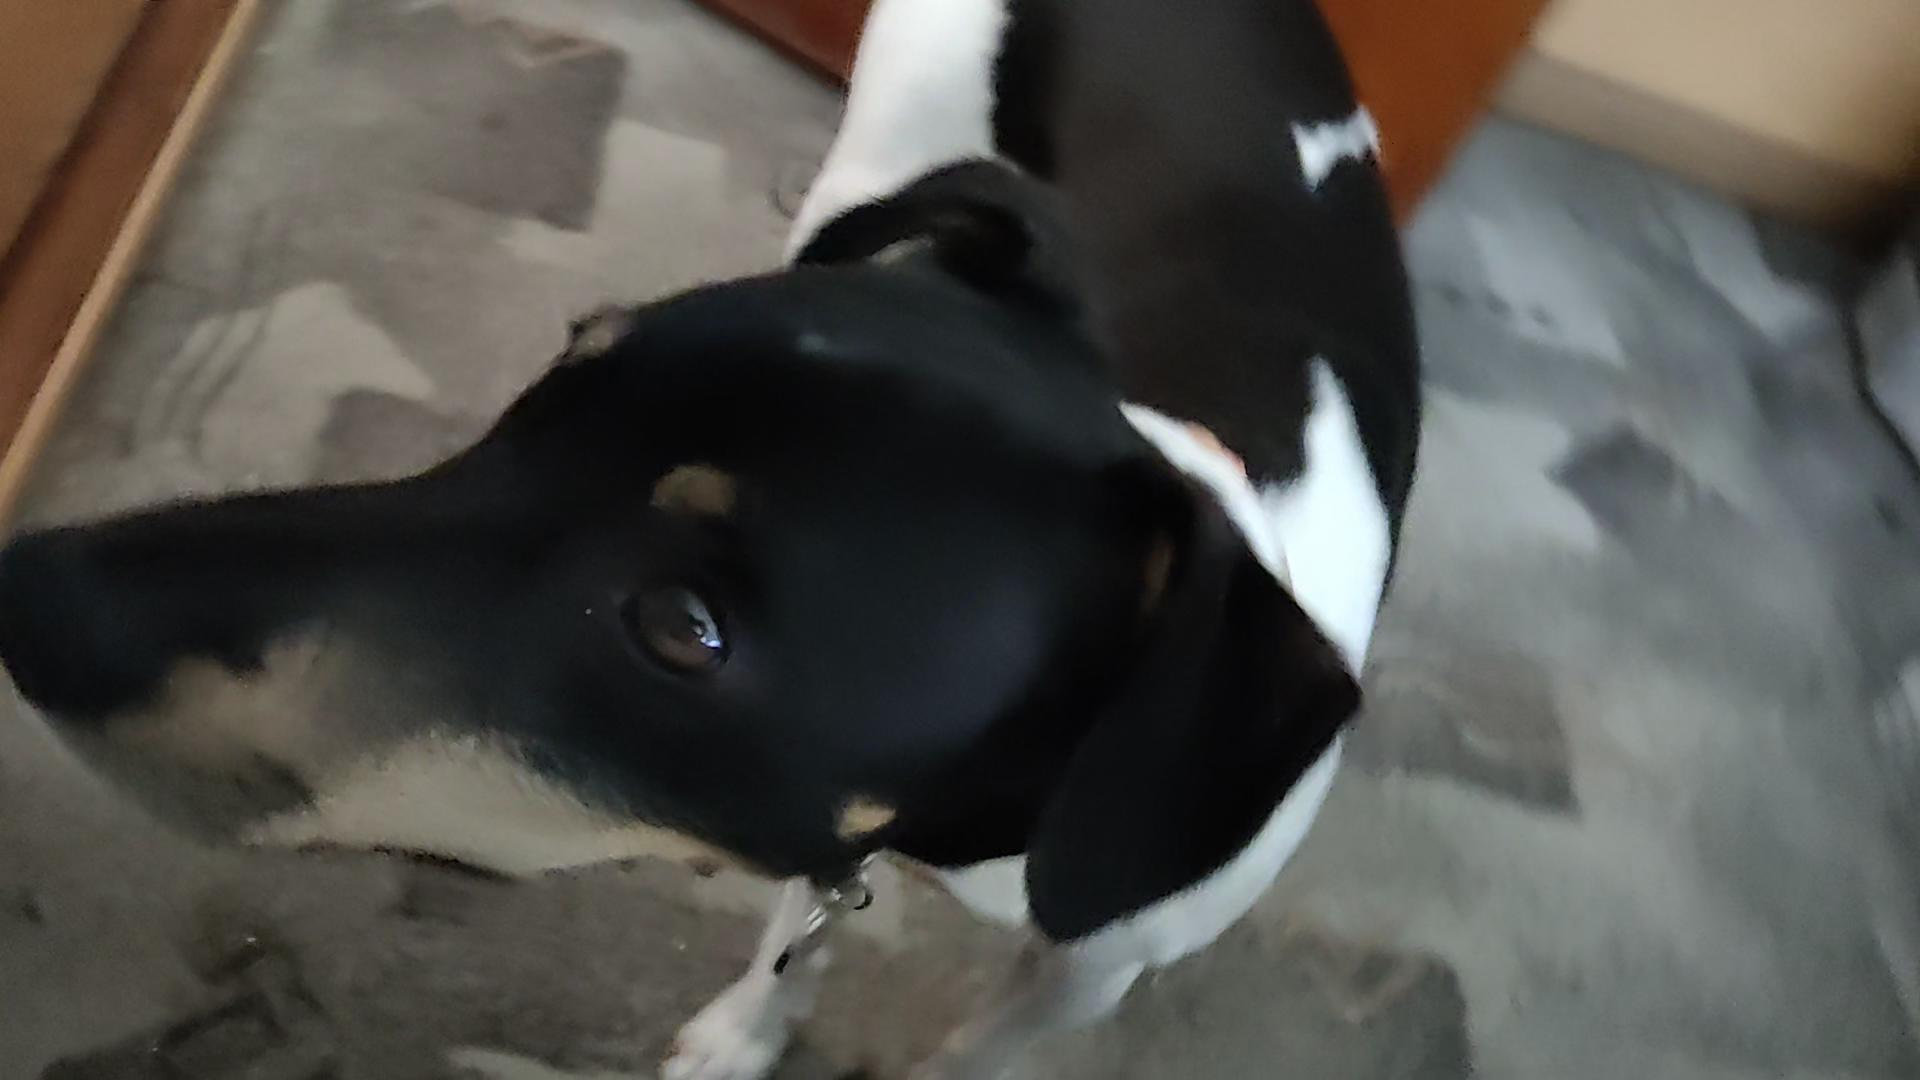Dog: (0, 0, 1441, 1080)
